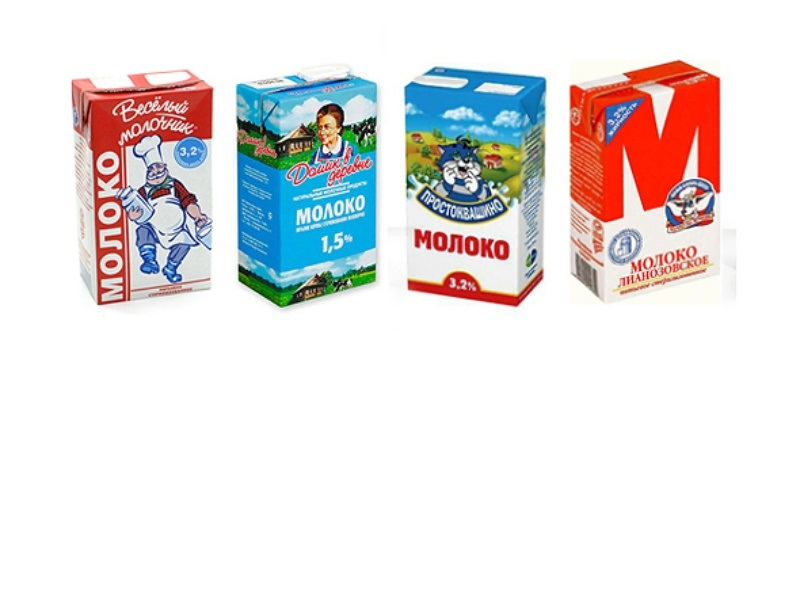milk: (560, 48, 741, 318), (390, 55, 562, 329), (226, 53, 392, 323), (60, 56, 227, 311)
